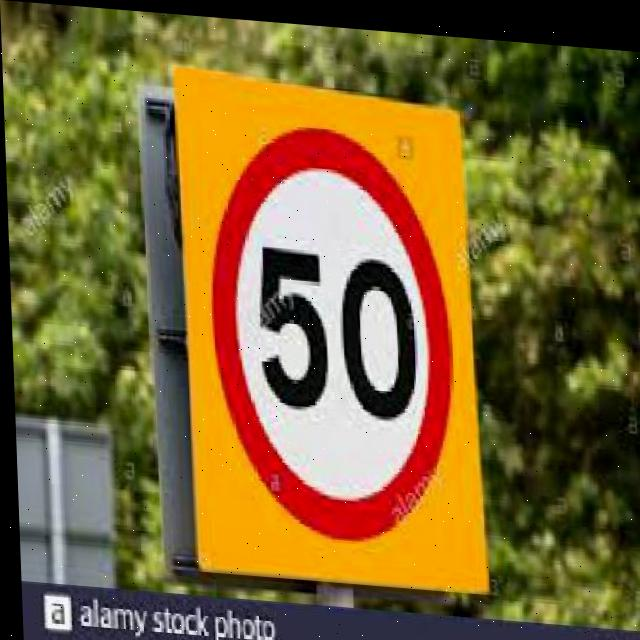Speed limit 50: (196, 108, 467, 549)
